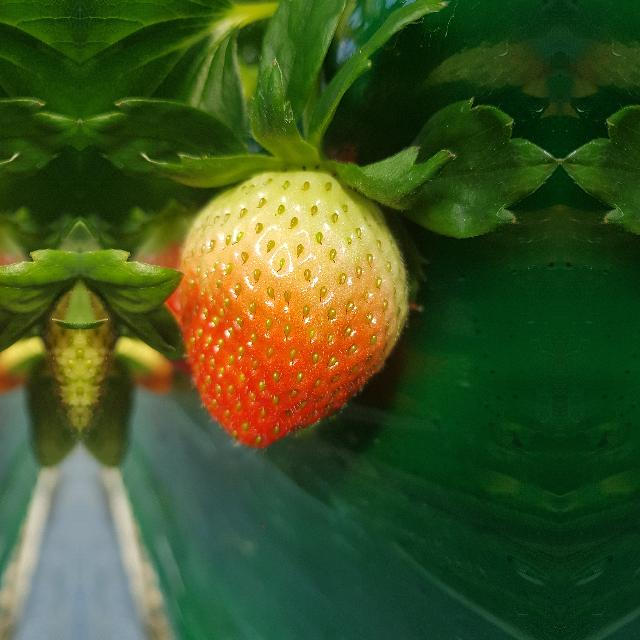Health_50: (177, 170, 411, 450)
